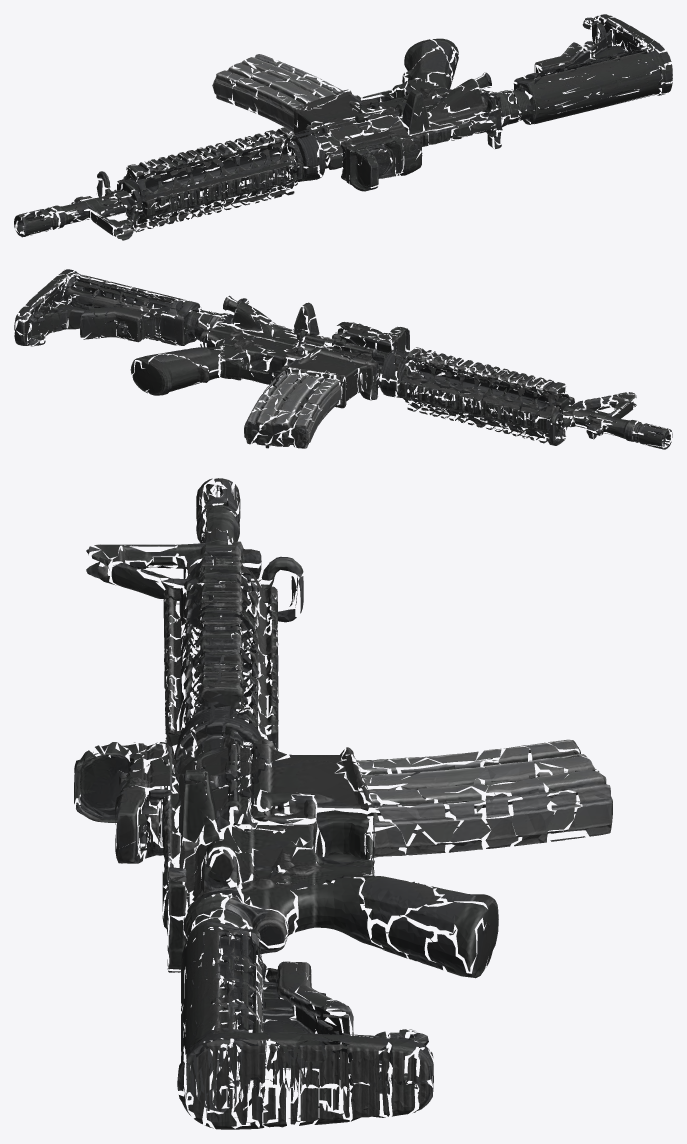
The model's file is gun_m4.glb.
The picture shows the model from 3 angles, top to bottom: view 1: azimuth 30°, elevation 25°; view 2: azimuth 150°, elevation 25°; view 3: azimuth 270°, elevation 25°; orthographic projection. The views are drawn at different scales.
Bounding box in the file's own units: 1.9 × 0.2147 × 0.7334.
Materials: 1 (1 with a texture image).
